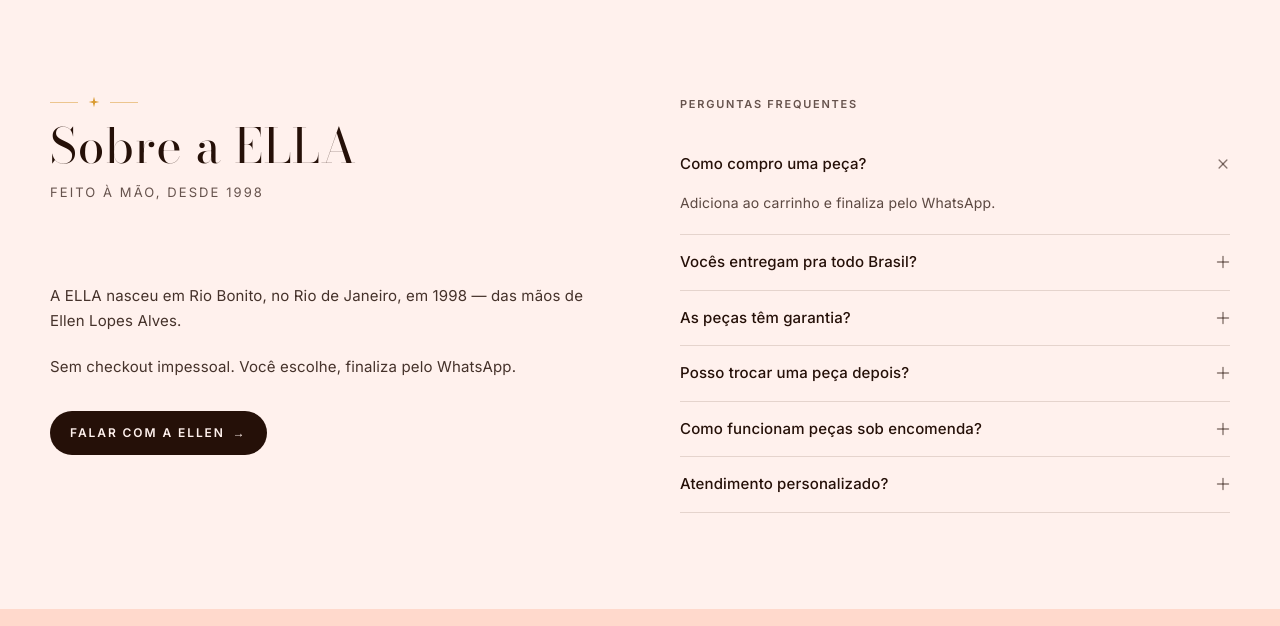
Test: SobreNos › clicking a closed FAQ item opens it
Click the button "As peças têm garantia?" at (765, 317), box [680,291,1230,345]
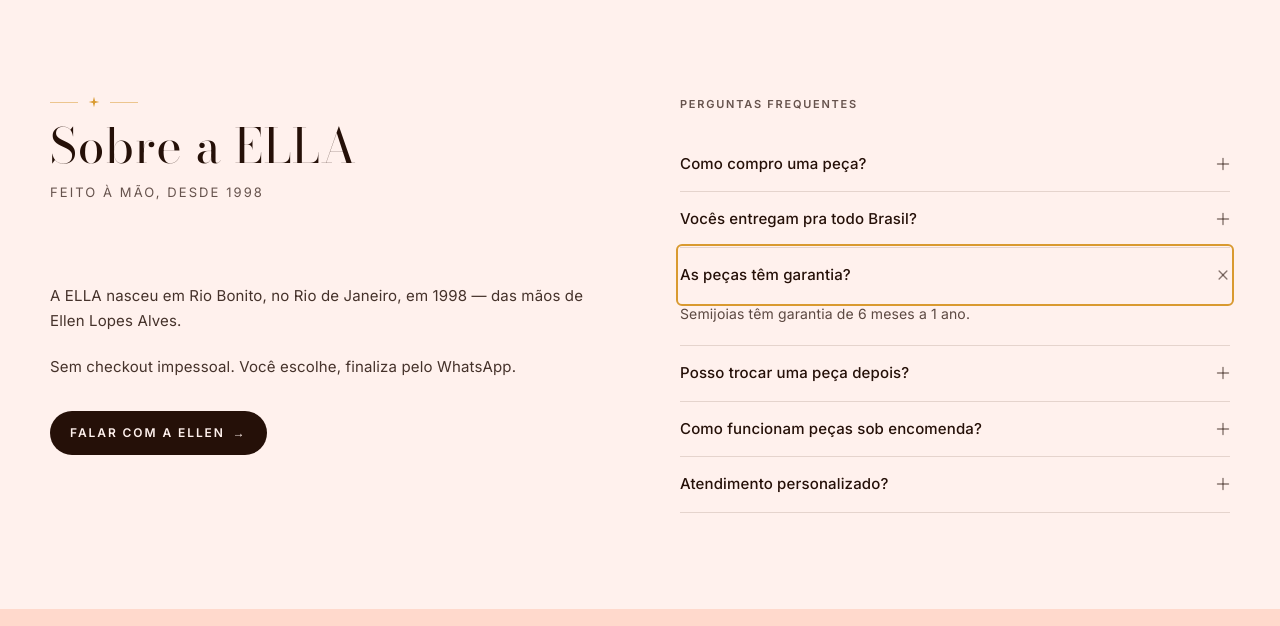
Result: the button "As peças têm garantia?" is expanded at [680,248,1230,302]
